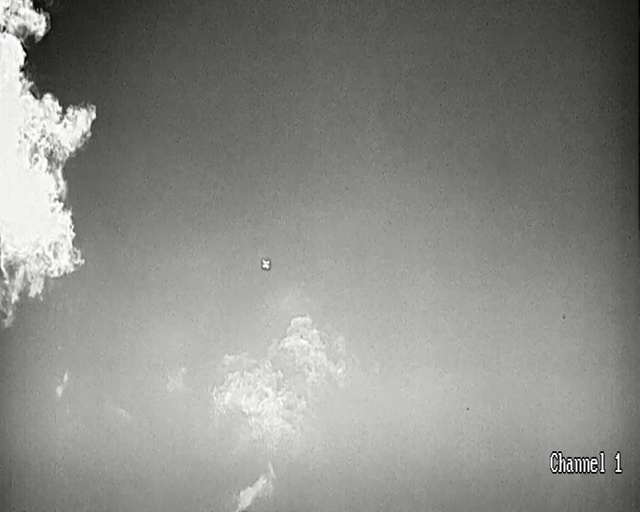uav: (262, 260, 271, 271)
